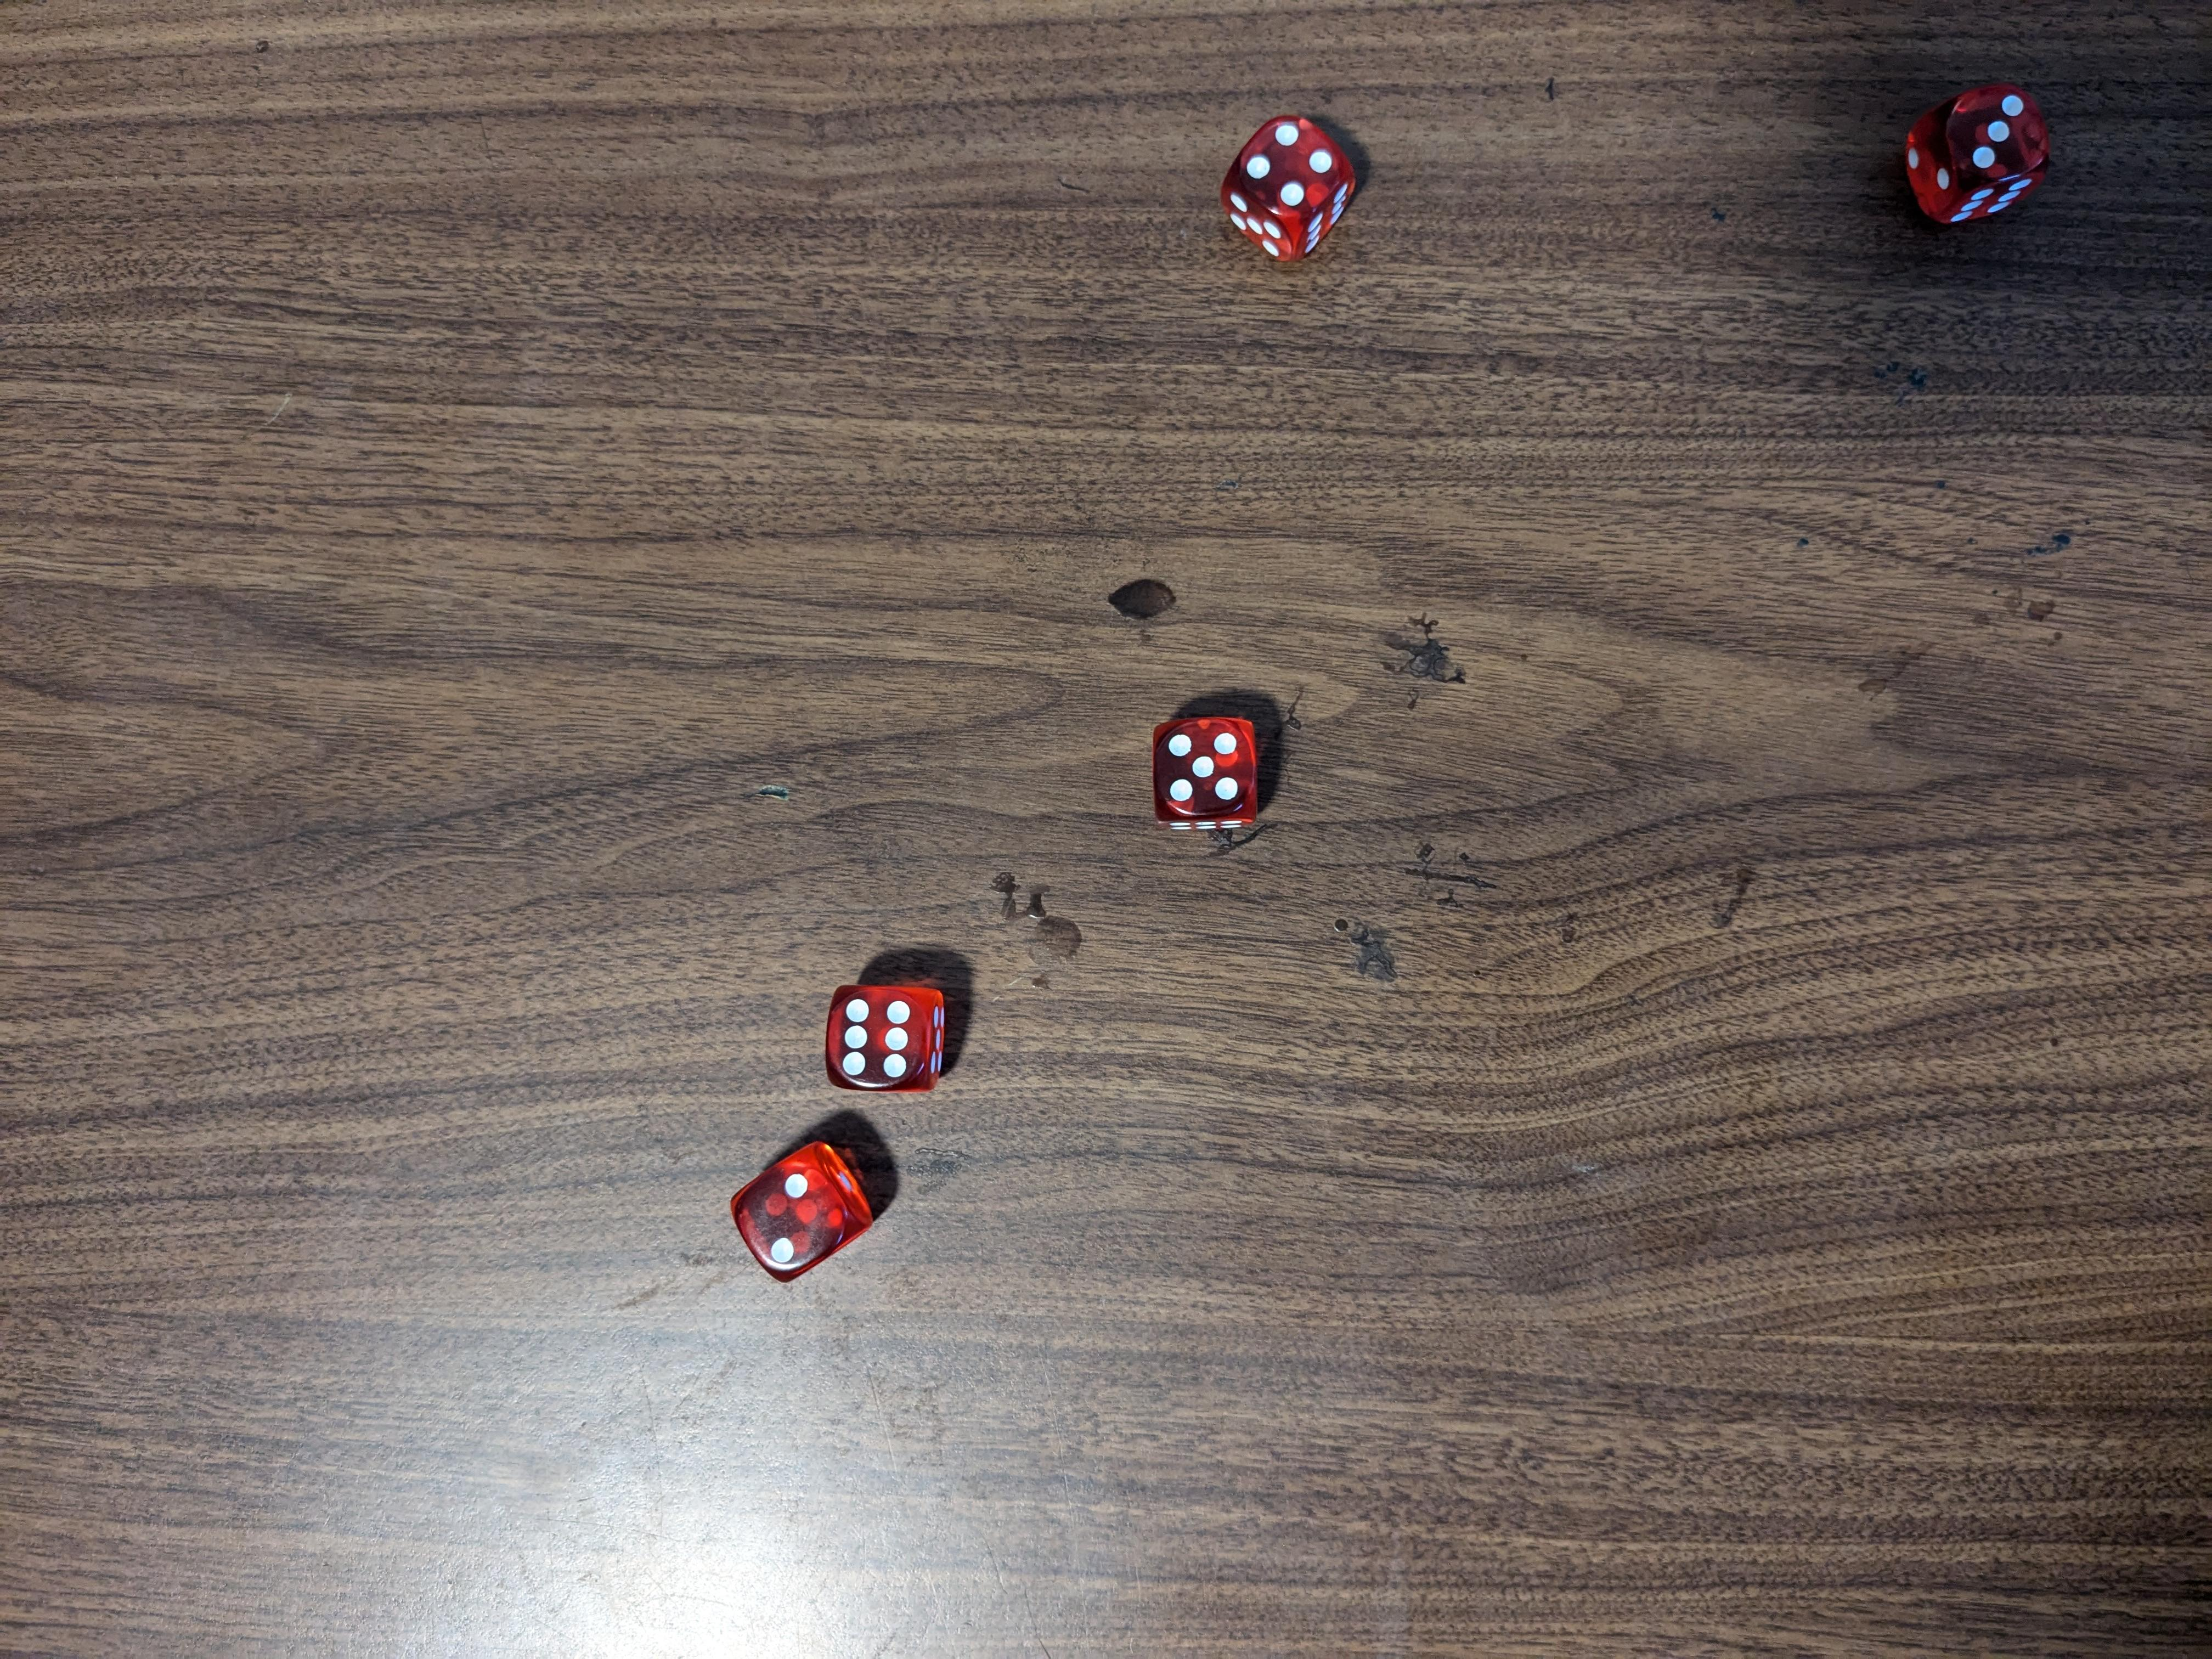five: (1151, 708, 1270, 833)
four: (1216, 110, 1360, 258)
six: (822, 983, 961, 1098)
three: (1904, 82, 2057, 225)
two: (721, 1136, 876, 1288)
